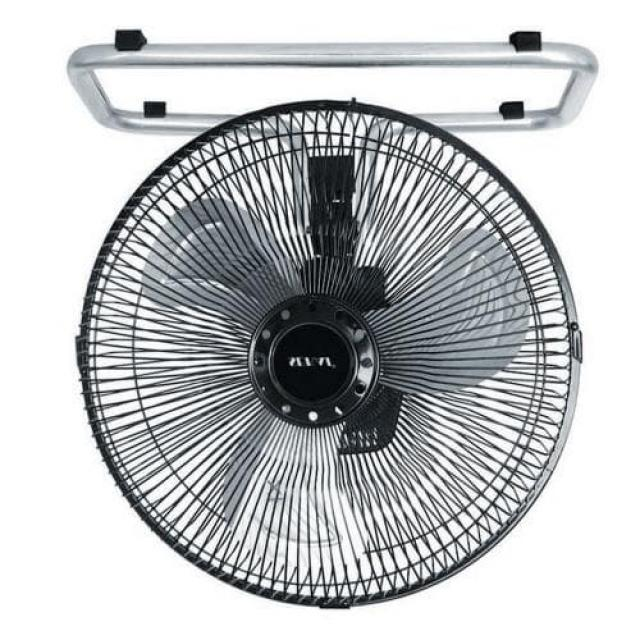fan: (69, 24, 603, 612)
